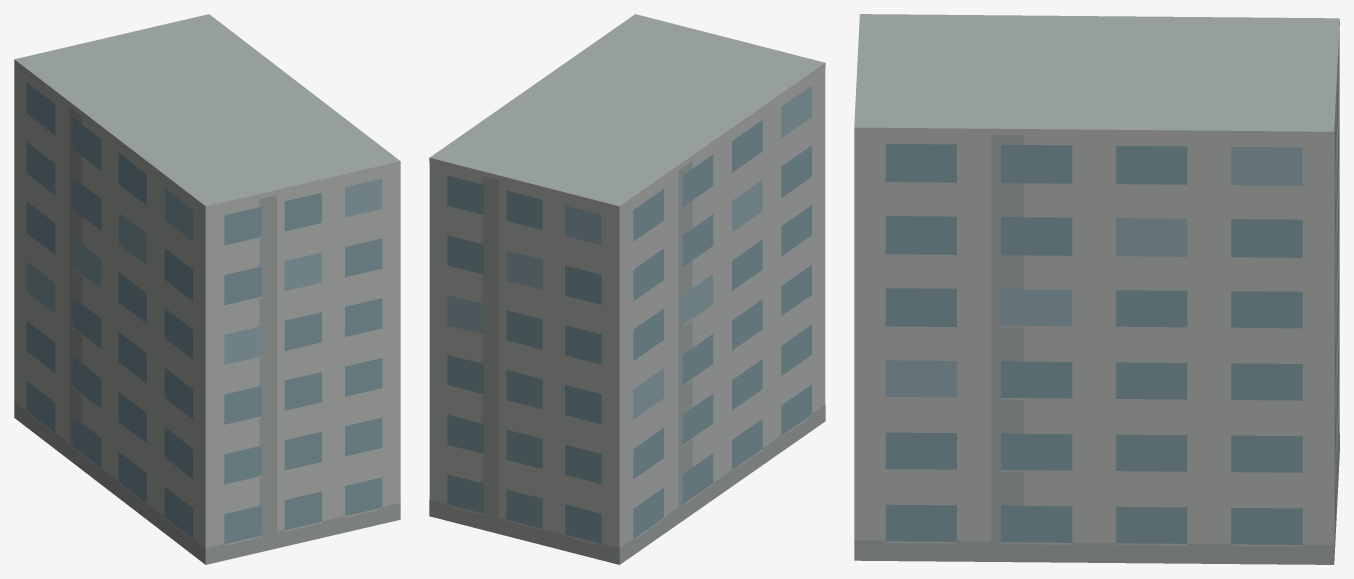
The model's file is survey-upis-32874697.glb.
3 views of the same model, side by side, from view 1: azimuth 30°, elevation 25°; view 2: azimuth 150°, elevation 25°; view 3: azimuth 270°, elevation 25° (orthographic). The views are drawn at different scales.
Visible parts, largest first — view 1: survey-upis-32874697.tmp; view 2: survey-upis-32874697.tmp; view 3: survey-upis-32874697.tmp.
Part boxes in pixels (x1,y1,x2,y2): survey-upis-32874697.tmp: [14, 14, 400, 564]; survey-upis-32874697.tmp: [429, 14, 825, 564]; survey-upis-32874697.tmp: [854, 14, 1339, 564].
Bounding box in the file's own units: 10.09 × 17.3 × 17.59.
